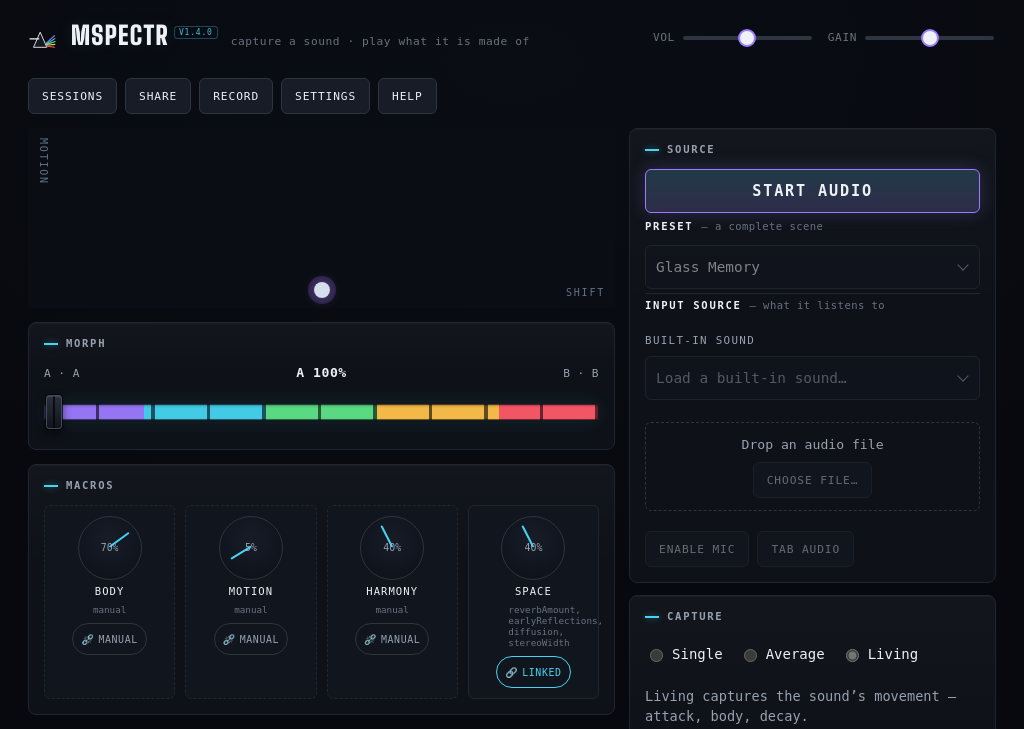
Test: preset selection applies captureStrategy and calibrationDb (D4) › seeds the capture mode and pushes loudness calibration to the engine bus
Step 1. Click the button "Start audio" → (813, 191), box [645,169,980,213]
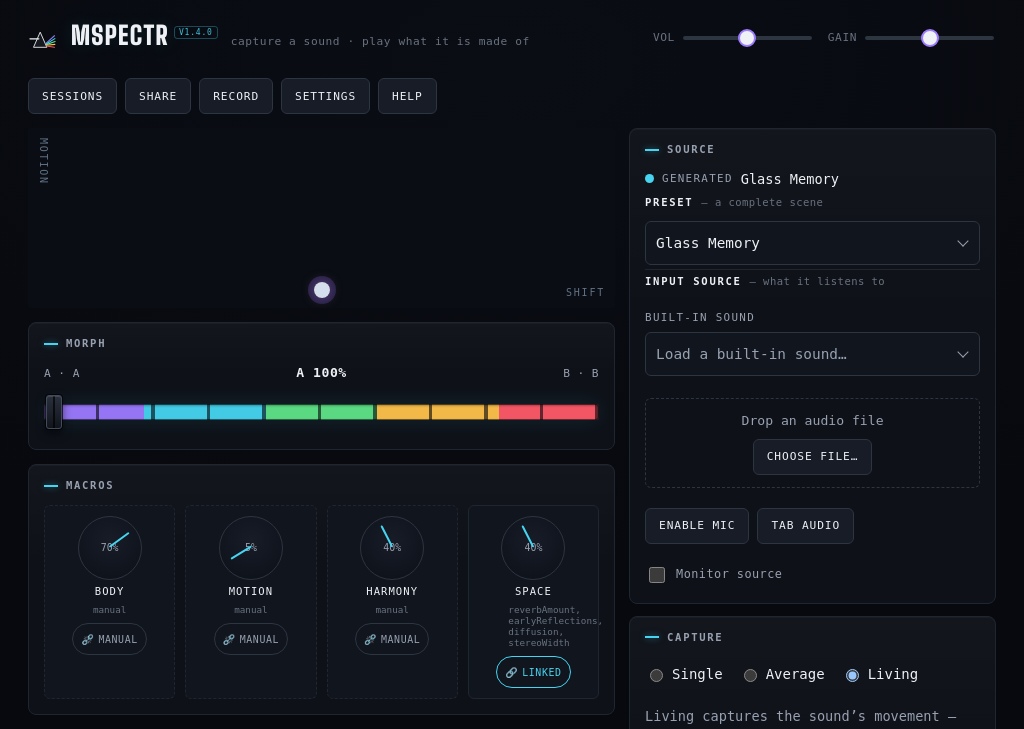
Step 2. Click the button with aria-label "loads a complete scene" → (708, 243), box [645,221,980,265]
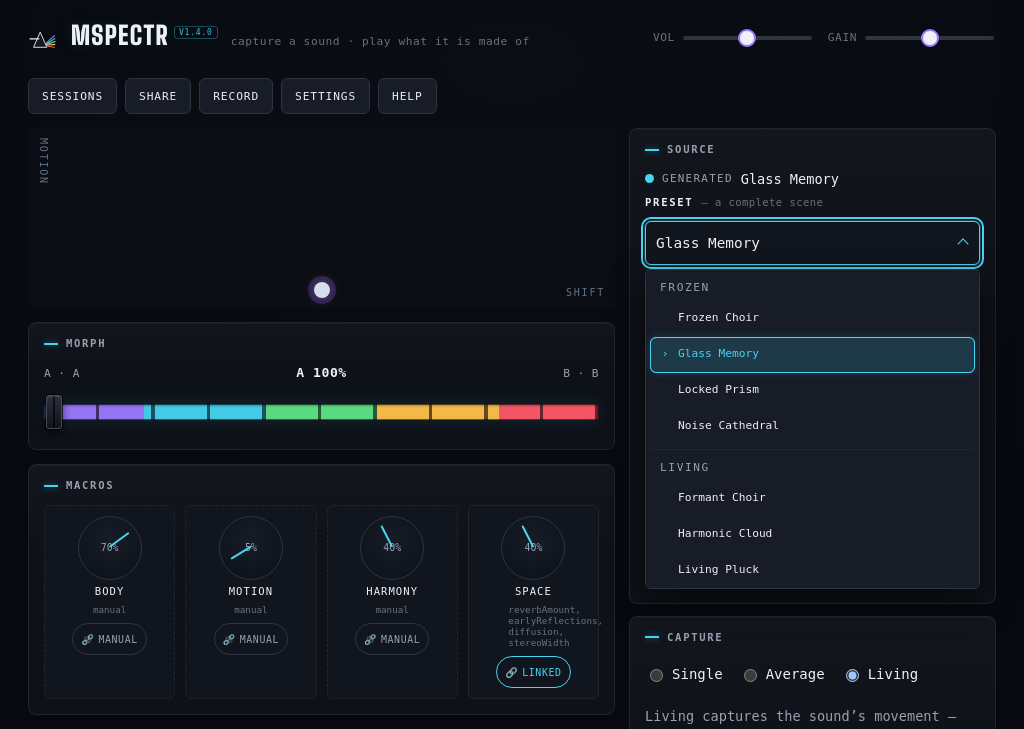
Step 3. Click the option "Living Pluck" → (718, 570), box [678,563,759,576]
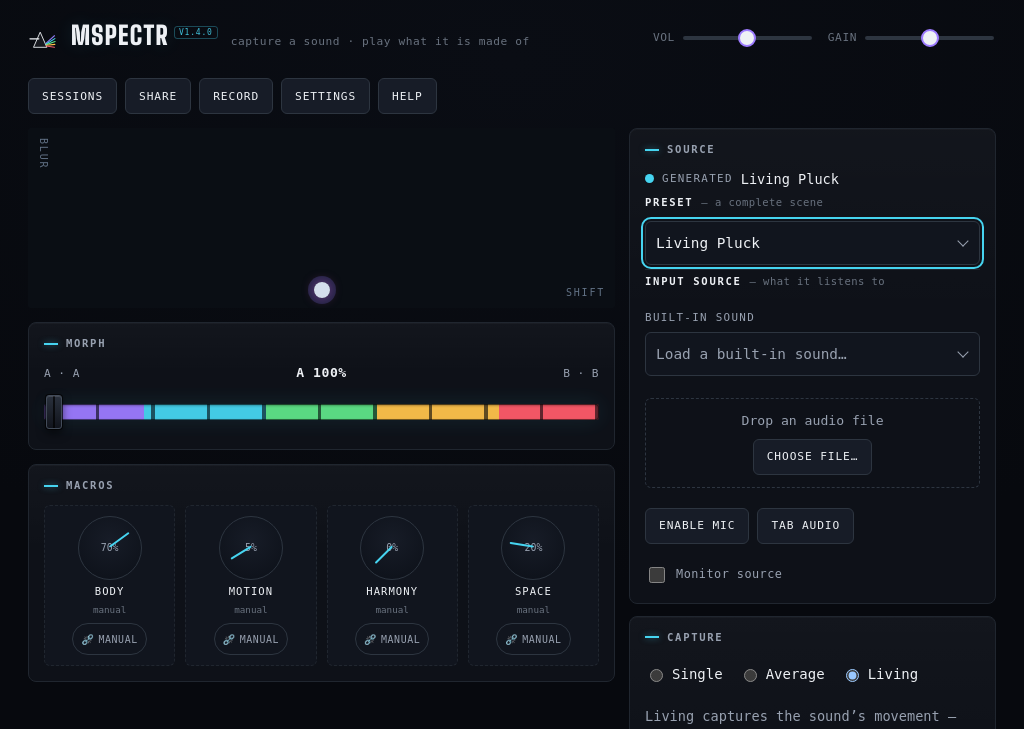
Step 4. Click the button with aria-label "loads a complete scene" → (708, 243), box [645,221,980,265]
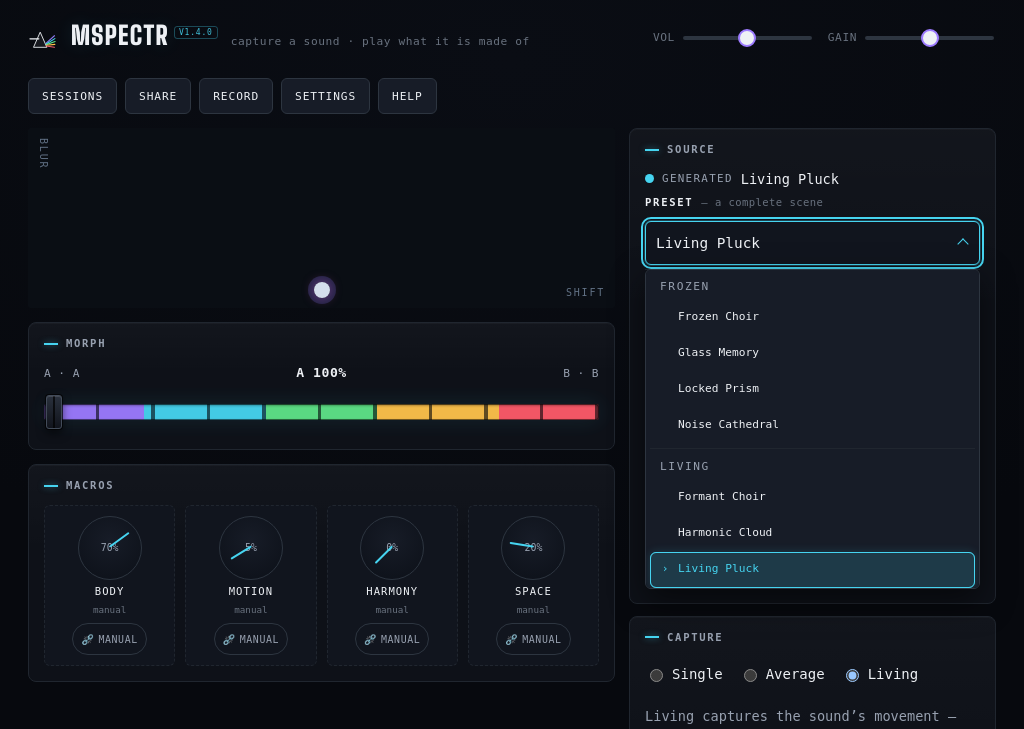
Step 5. Click the option "Frozen Choir" → (718, 317), box [678,310,759,323]
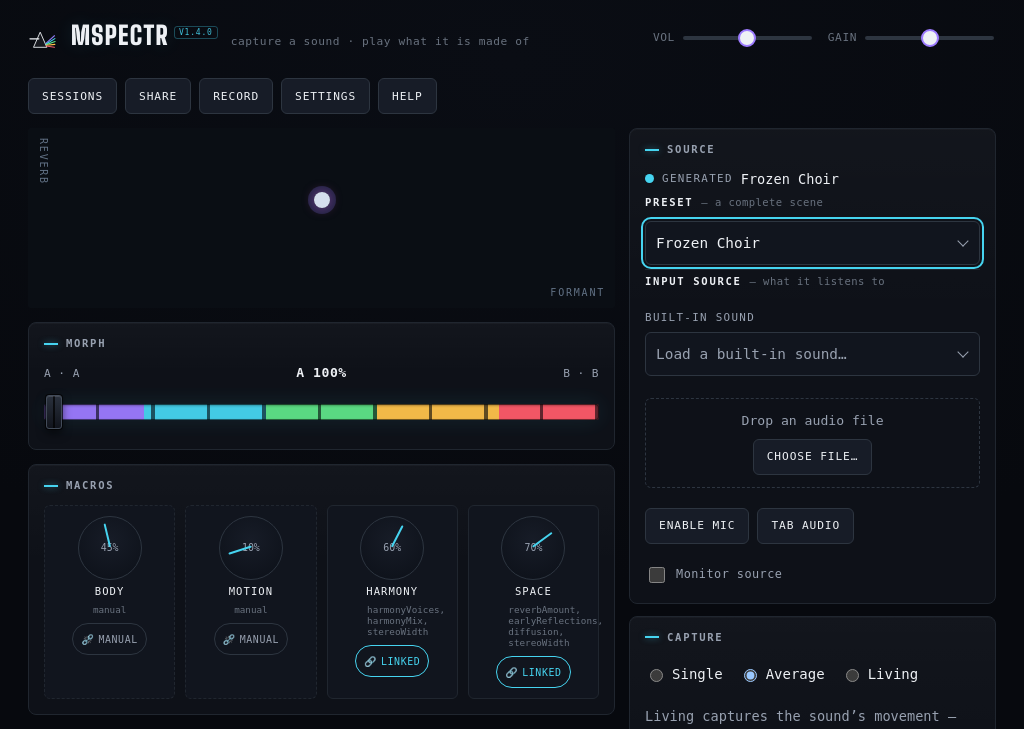
Expected: the radio button labelled "Average" is checked, [744,669,757,682]
